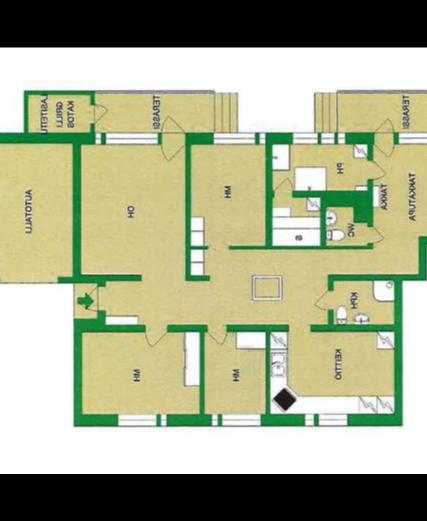door: (140, 322, 172, 350), (156, 114, 190, 138), (156, 136, 188, 158), (80, 285, 102, 316), (313, 286, 335, 313), (373, 116, 398, 138), (209, 322, 229, 348), (366, 222, 386, 248), (374, 137, 396, 159), (272, 178, 296, 198), (90, 102, 110, 124), (368, 158, 386, 182)
window: (102, 128, 160, 148), (219, 408, 265, 428), (115, 410, 160, 427), (314, 410, 352, 428), (210, 130, 258, 144), (395, 129, 427, 147), (290, 127, 320, 146), (300, 412, 318, 429), (318, 128, 336, 144), (156, 411, 170, 428), (334, 130, 348, 144), (256, 131, 270, 145), (209, 412, 221, 428), (92, 133, 104, 145)
